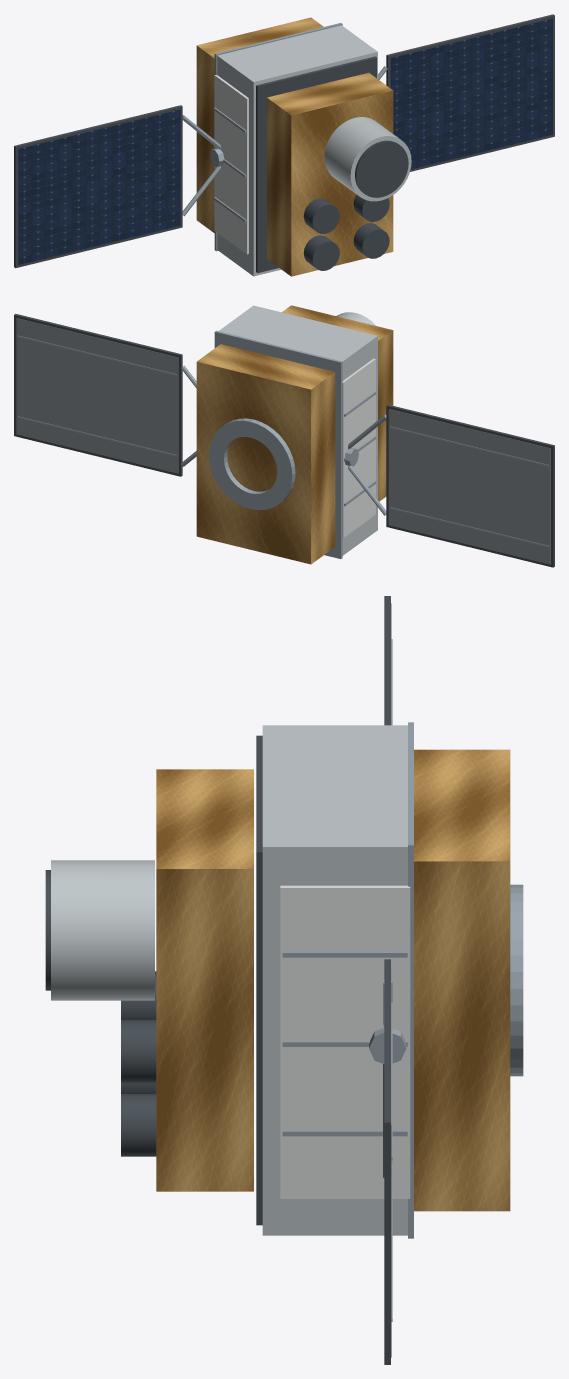
Rendered from mtg-i.glb.
The picture shows the model from 3 angles, top to bottom: view 1: azimuth 30°, elevation 25°; view 2: azimuth 150°, elevation 25°; view 3: azimuth 270°, elevation 25°; orthographic projection. The views are drawn at different scales.
Visible parts, largest first — view 1: Solar cell panel (×2), Instrument module, Payload module, Radiator face, Service module, Earth-facing deck, Solar panel frame (×2), Lightning Imager optical head (×4), Flexible Combined Imager baffle, Flexible Combined Imager aperture, Module interface; view 2: Rear array substrate (×2), Service module, Payload module, Radiator face, Solar panel frame (×2), Launch adapter ring, Module interface, Instrument module, Rear stiffener (×4); view 3: Service module, Instrument module, Radiator face, Payload module, Flexible Combined Imager baffle, Lightning Imager optical head (×2), Solar panel frame (×2), Earth-facing deck, Launch adapter ring, Module interface.
Part boxes in pixels (x1=…): Solar cell panel (×2): x1=18, y1=18, x2=552, y2=265; Instrument module: x1=267, y1=72, x2=393, y2=276; Payload module: x1=217, y1=25, x2=377, y2=276; Radiator face: x1=214, y1=75, x2=248, y2=254; Service module: x1=196, y1=17, x2=323, y2=232; Earth-facing deck: x1=256, y1=56, x2=376, y2=272; Solar panel frame (×2): x1=14, y1=14, x2=554, y2=268; Lightning Imager optical head (×4): x1=303, y1=194, x2=389, y2=270; Flexible Combined Imager baffle: x1=324, y1=117, x2=411, y2=201; Flexible Combined Imager aperture: x1=355, y1=140, x2=408, y2=197; Module interface: x1=214, y1=23, x2=342, y2=251; Rear array substrate (×2): x1=16, y1=318, x2=550, y2=564; Service module: x1=196, y1=344, x2=335, y2=564; Payload module: x1=218, y1=305, x2=377, y2=555; Radiator face: x1=342, y1=358, x2=375, y2=538; Solar panel frame (×2): x1=14, y1=313, x2=554, y2=567; Launch adapter ring: x1=209, y1=418, x2=295, y2=510; Module interface: x1=214, y1=330, x2=342, y2=558; Instrument module: x1=282, y1=305, x2=393, y2=501; Rear stiffener (×4): x1=17, y1=335, x2=548, y2=547; Service module: x1=414, y1=749, x2=510, y2=1211; Instrument module: x1=156, y1=769, x2=253, y2=1191; Radiator face: x1=280, y1=885, x2=410, y2=1198; Payload module: x1=262, y1=725, x2=407, y2=1235; Flexible Combined Imager baffle: x1=51, y1=860, x2=154, y2=1000; Lightning Imager optical head (×2): x1=121, y1=1020, x2=156, y2=1156; Solar panel frame (×2): x1=384, y1=596, x2=390, y2=1364; Earth-facing deck: x1=256, y1=735, x2=262, y2=1225; Launch adapter ring: x1=510, y1=884, x2=523, y2=1076; Module interface: x1=408, y1=722, x2=413, y2=1238.
Size of the model in its own units: 9.97 by 3.47 by 3.82.
7 materials, 2 textured.
